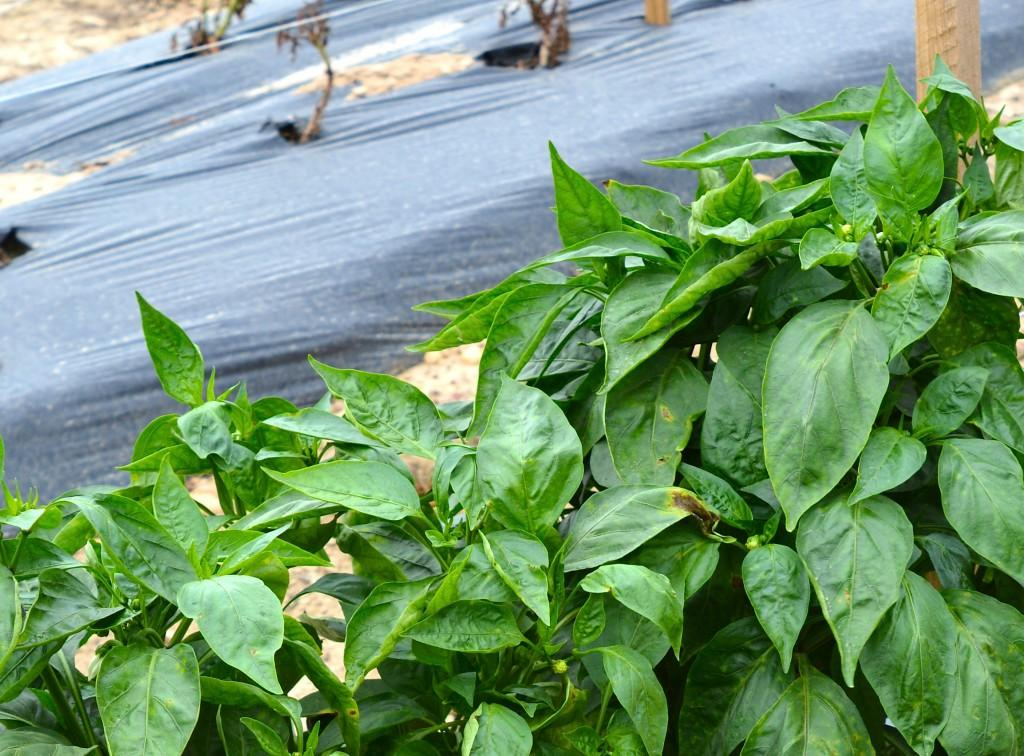Bell_pepper leaf spot: (770, 300, 891, 523), (473, 369, 586, 534), (803, 491, 906, 667), (174, 574, 290, 706), (305, 352, 448, 458), (342, 576, 468, 694), (940, 425, 1024, 575), (597, 364, 700, 486), (96, 640, 197, 756), (867, 61, 940, 221), (261, 455, 422, 527), (599, 264, 711, 365), (576, 560, 687, 661), (127, 290, 221, 406), (570, 482, 696, 557), (21, 567, 134, 649), (870, 243, 948, 358), (404, 597, 529, 668), (470, 528, 555, 626)
